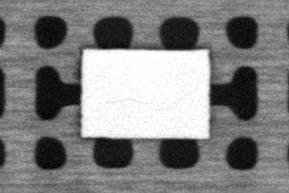DIE_CRACK: (106, 95, 152, 106)
